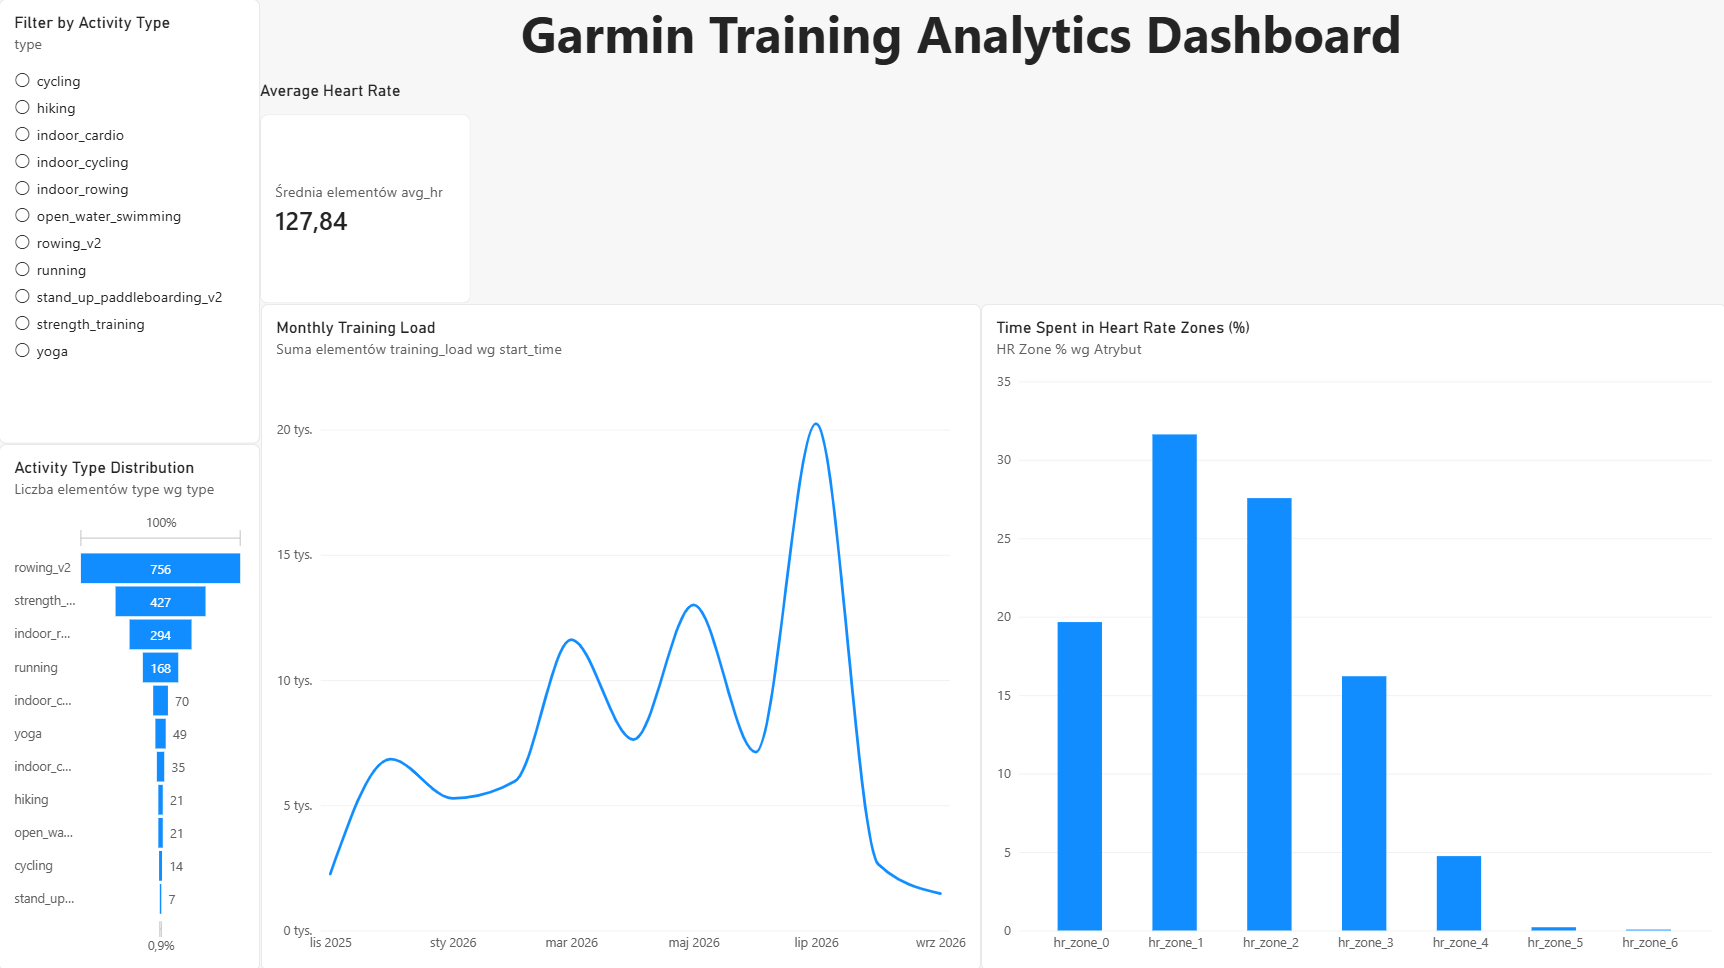

What the dashboard file says about the page in this screenshot:
{"tool":"powerbi","page":{"name":"Strona 1","canvas":[1920,1080],"ordinal":0},"visuals":[{"type":"lineChart","title":"Monthly Training Load","fields":{"Category":["Zapytanie1.start_time"],"Y":["Sum(Zapytanie1.training_load)"]},"box":[291.1,338.9,800,741.1],"z":0},{"type":"cardVisual","title":"Average Heart Rate","fields":{"Data":["Avg(Zapytanie1.avg_hr)"]},"box":[290,91.1,234.4,247.8],"z":1000},{"type":"columnChart","title":"Time Spent in Heart Rate Zones (%)","fields":{"Category":["Zapytanie1.Atrybut"],"Y":["Zapytanie1.HR Zone %"]},"box":[1091.1,338.9,828.9,741.1],"z":2000},{"type":"funnel","title":"Activity Type Distribution","fields":{"Category":["Zapytanie1.type"],"Y":["CountNonNull(Zapytanie1.type)"]},"box":[0,494.4,290,585.6],"z":3000},{"type":"listSlicer","title":"Filter by Activity Type","fields":{"Values":["Zapytanie1.type"]},"box":[0,0,290,494.4],"z":4000},{"type":"textbox","box":[580,0,1010,91.1],"z":5000}]}

Visuals, with their boxes in screenshot pixels (x1, y1, x2, y2), scaled from the page's 1920x1080 canvas onto the 1724x968 screenshot:
"Monthly Training Load" lineChart: 261/304/980/967
"Average Heart Rate" cardVisual: 260/82/471/304
"Time Spent in Heart Rate Zones (%)" columnChart: 980/304/1723/967
"Activity Type Distribution" funnel: 0/443/260/967
"Filter by Activity Type" listSlicer: 0/0/260/443
textbox: 521/0/1428/82
